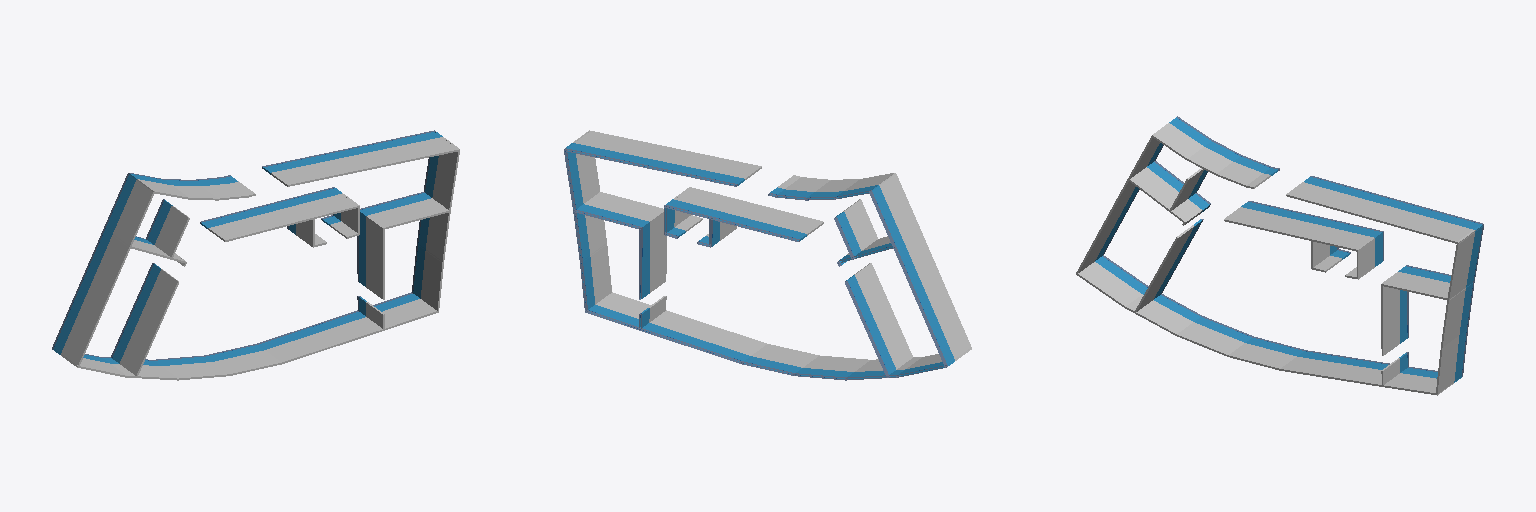
3 views of the same model, side by side, from view 1: azimuth 30°, elevation 25°; view 2: azimuth 150°, elevation 25°; view 3: azimuth 330°, elevation 25° (orthographic).
Visible parts, largest first — view 1: walls; view 2: walls; view 3: walls.
Part boxes in pixels (x1,y1,x2,y2): walls: (52, 130, 459, 380); walls: (564, 130, 971, 380); walls: (1076, 116, 1483, 395).
Size of the model in its own units: 21.53 by 10.98 by 2.5.
1 materials, 1 textured.